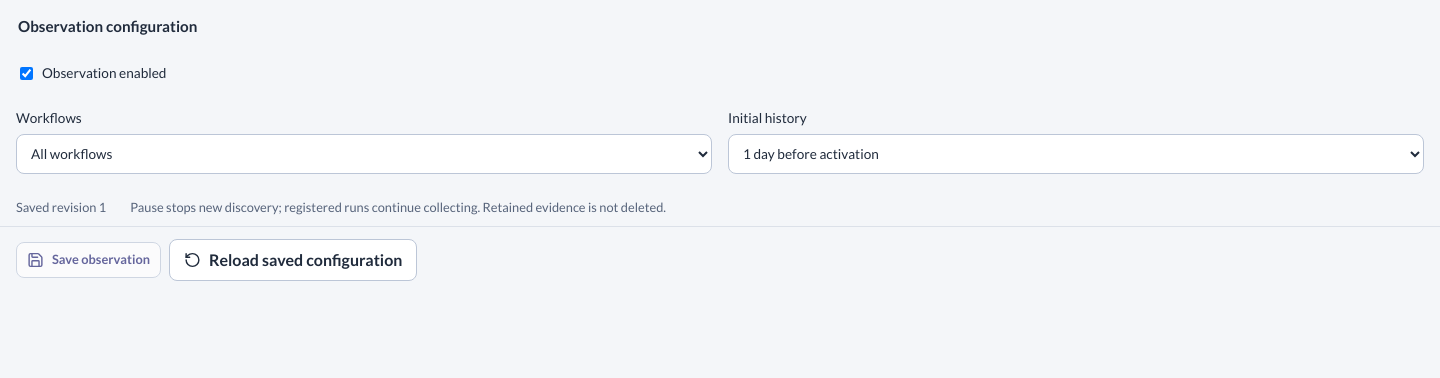
Test case: lost reply retains an immutable retry command and prevents duplicate in-flight writes
Click the checkbox labelled "Observation enabled" at (26, 73), box [20, 67, 33, 80]
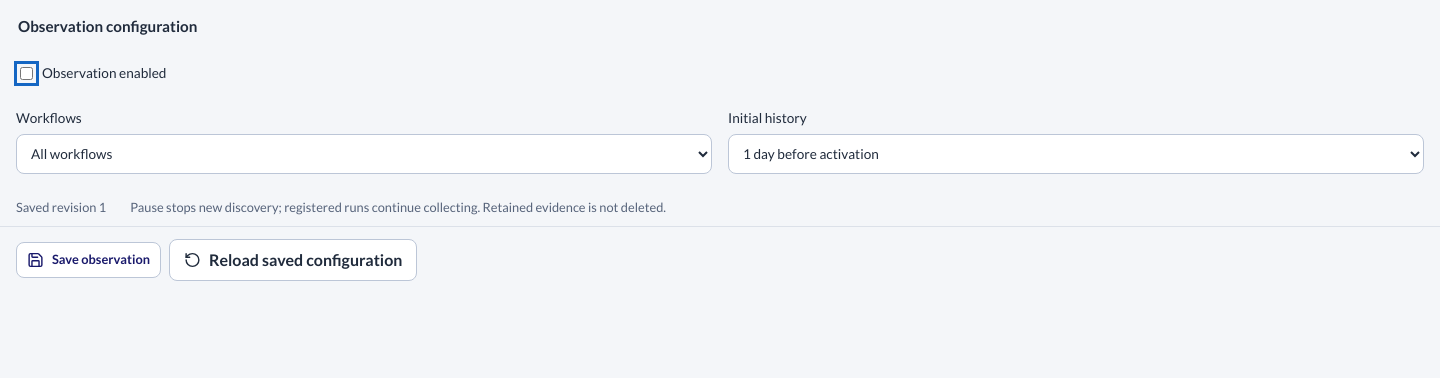
Submit the form "Observation configuration"
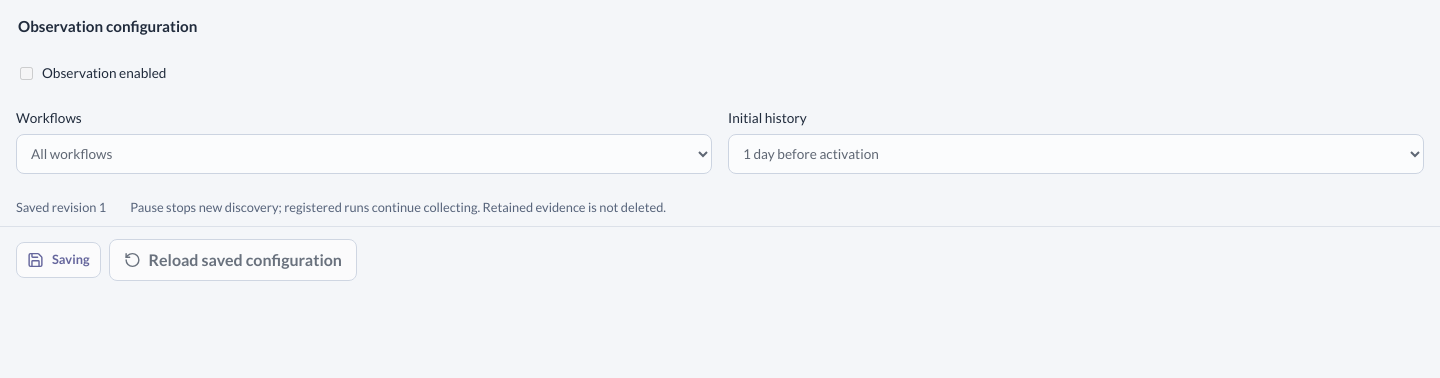
Submit the form "Observation configuration"
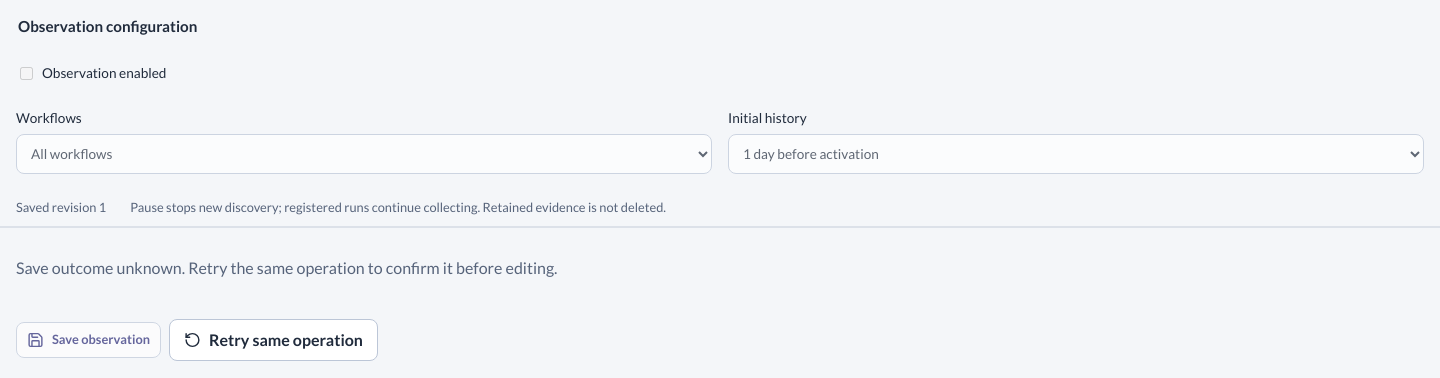
expect the button "Save observation" is disabled: met, box [16, 322, 161, 358]
expect the text "Save outcome unknown. Retry the same operation to confirm it before editing." is shown: met, box [0, 227, 1439, 307]
expect the button "Reload saved configuration" is gone: met
Click the button "Retry same operation" at (274, 340), box [169, 319, 378, 361]
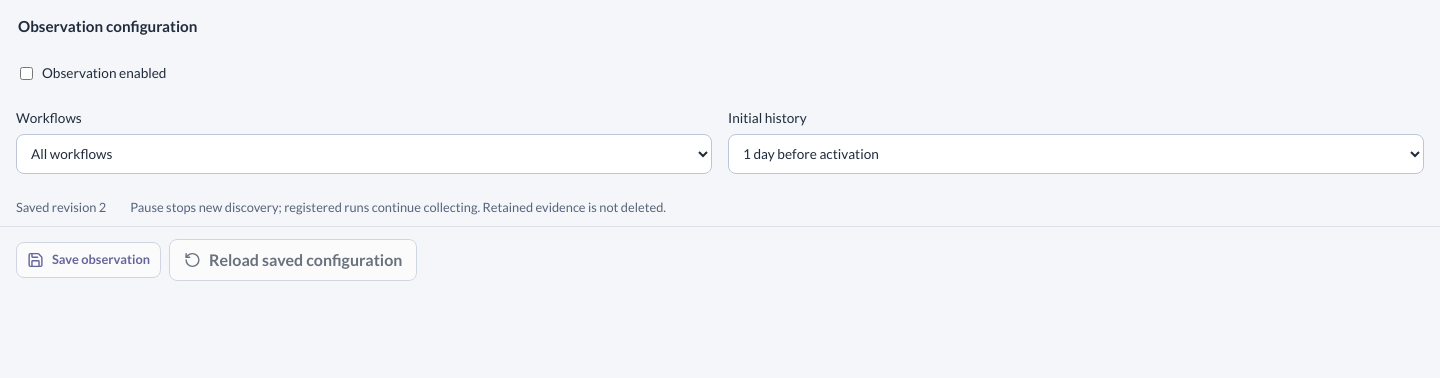
expect the text "Saved revision 2" is shown: met, box [16, 199, 106, 217]
